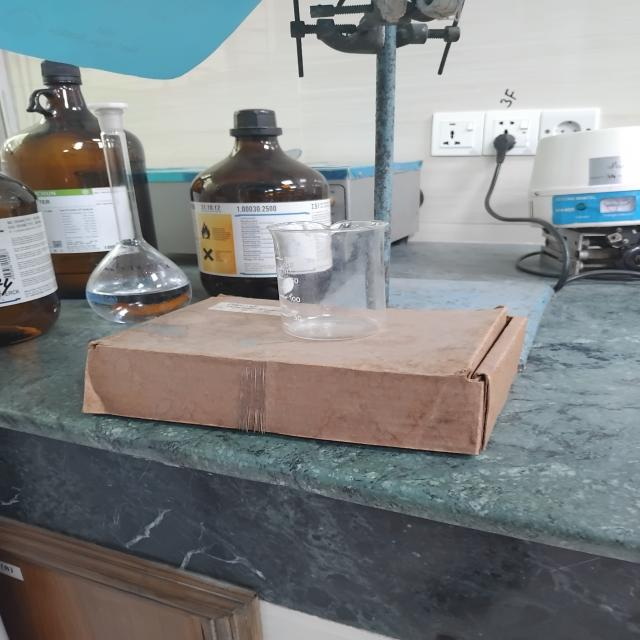Beaker: (240, 205, 405, 352)
